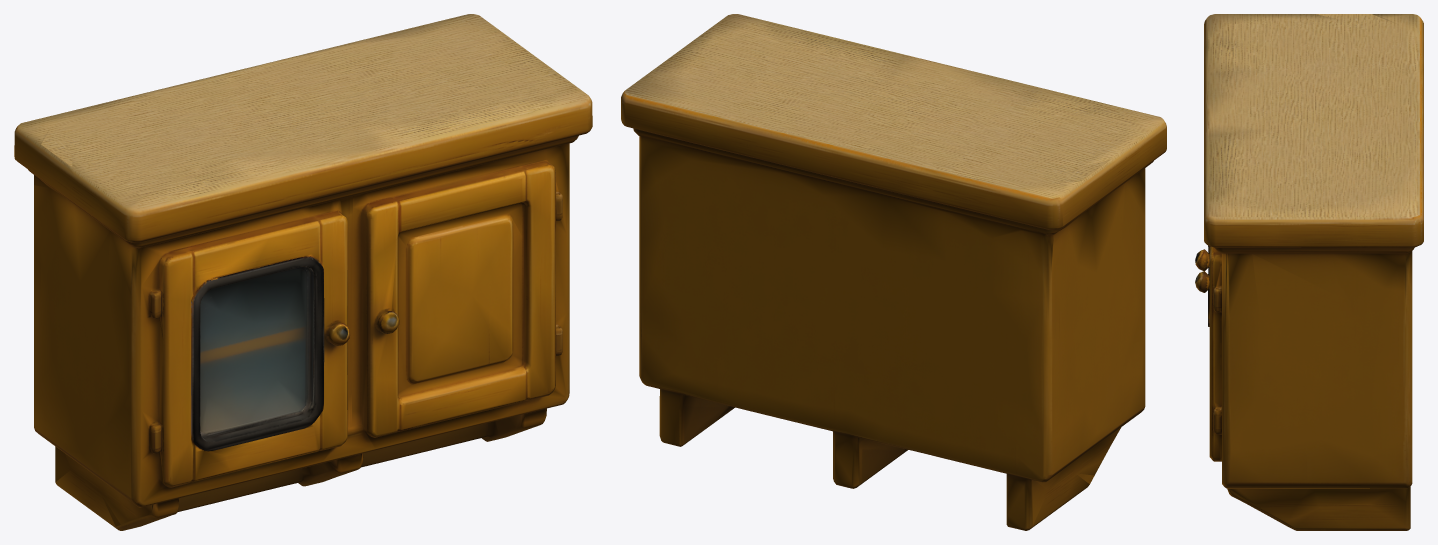
Rendered from cupboard_wall.glb.
3 views of the same model, side by side, from view 1: azimuth 30°, elevation 25°; view 2: azimuth 150°, elevation 25°; view 3: azimuth 270°, elevation 25° (orthographic). The views are drawn at different scales.
Visible parts, largest first — view 1: cupboard_wall; view 2: cupboard_wall; view 3: cupboard_wall.
Part boxes in pixels (x1=…): cupboard_wall: x1=14, y1=14, x2=592, y2=530; cupboard_wall: x1=621, y1=14, x2=1166, y2=530; cupboard_wall: x1=1195, y1=14, x2=1423, y2=530.
Bounding box in the file's own units: 0.9998 × 0.7465 × 0.4685.
Materials: 1 (1 with a texture image).
